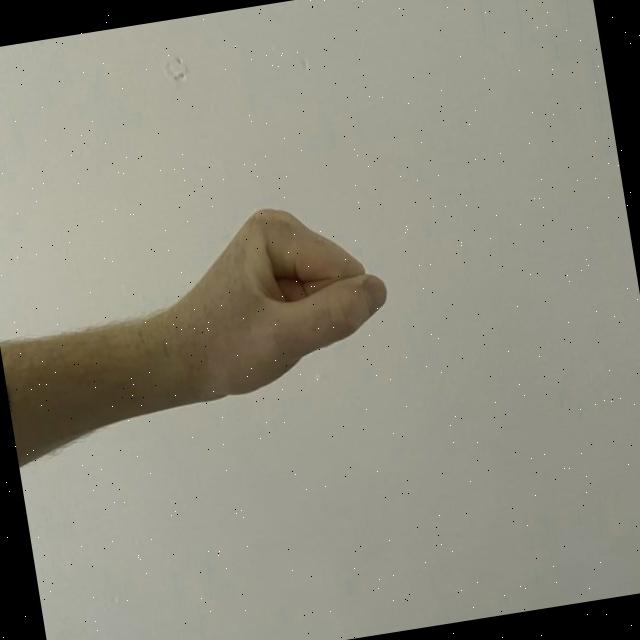rock: (104, 186, 405, 420)
